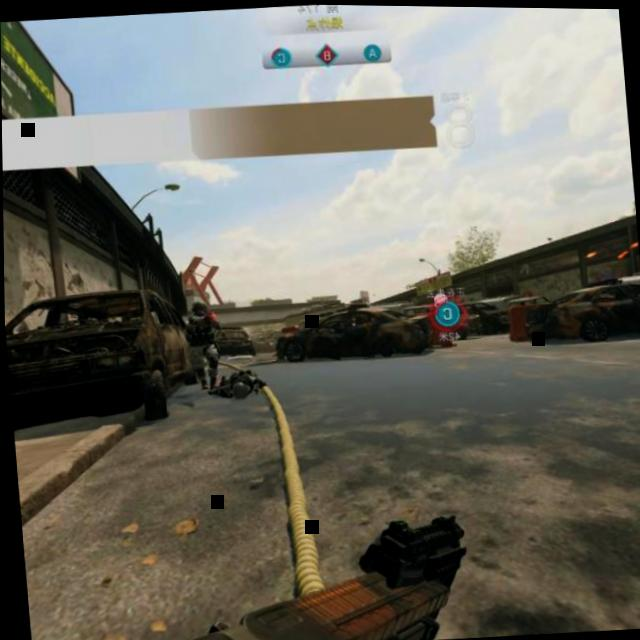MW2_body: (179, 299, 226, 390)
